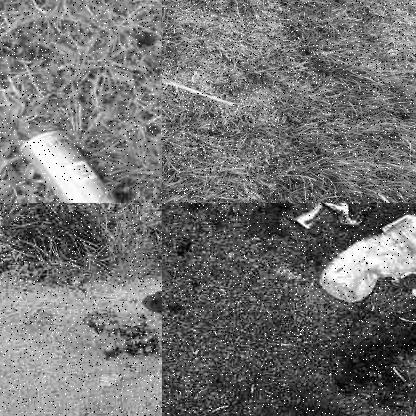metal: (15, 129, 132, 202)
plastic: (324, 218, 415, 299), (162, 72, 242, 115), (287, 203, 357, 227)
